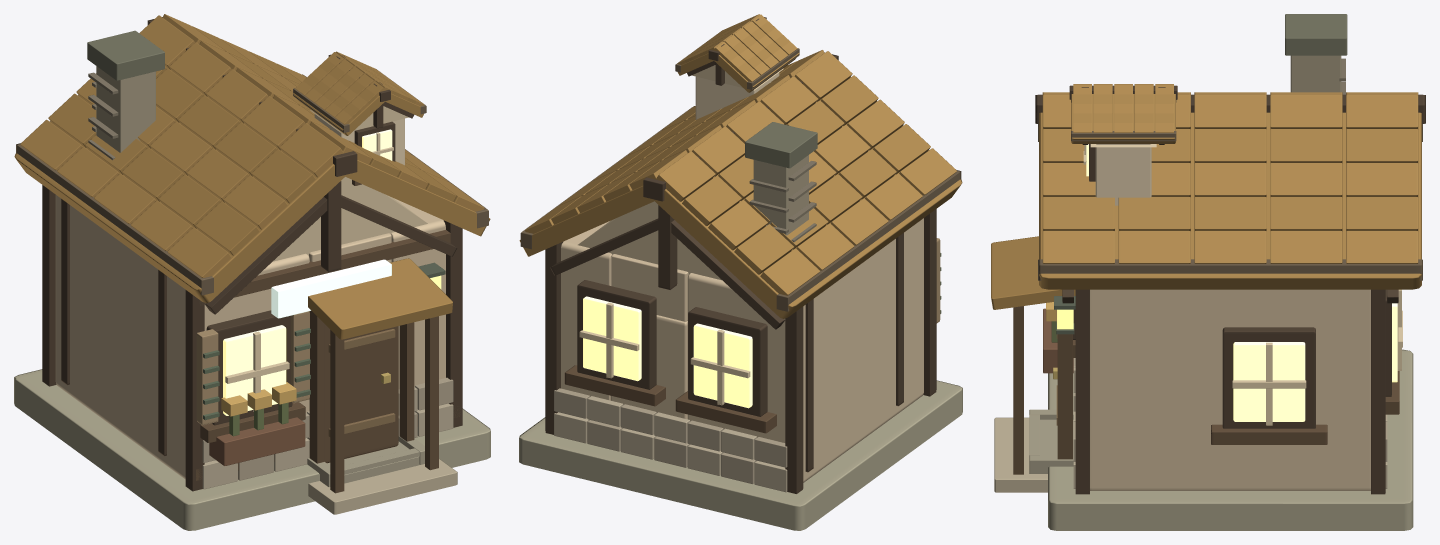
File: workshop-0-3.glb
3 views of the same model, side by side, from view 1: azimuth 30°, elevation 25°; view 2: azimuth 150°, elevation 25°; view 3: azimuth 270°, elevation 25° (orthographic). The views are drawn at different scales.
Visible parts, largest first — view 1: workshop-3-0, door-hinge; view 2: workshop-3-0; view 3: workshop-3-0.
Part boxes in pixels (left/top/right/bottom): workshop-3-0: left=14, top=14, right=490, bottom=530; door-hinge: left=324, top=324, right=398, bottom=463; workshop-3-0: left=519, top=14, right=962, bottom=530; workshop-3-0: left=991, top=14, right=1425, bottom=530.
Bounding box in the file's own units: 1.88 × 2.26 × 2.24.
